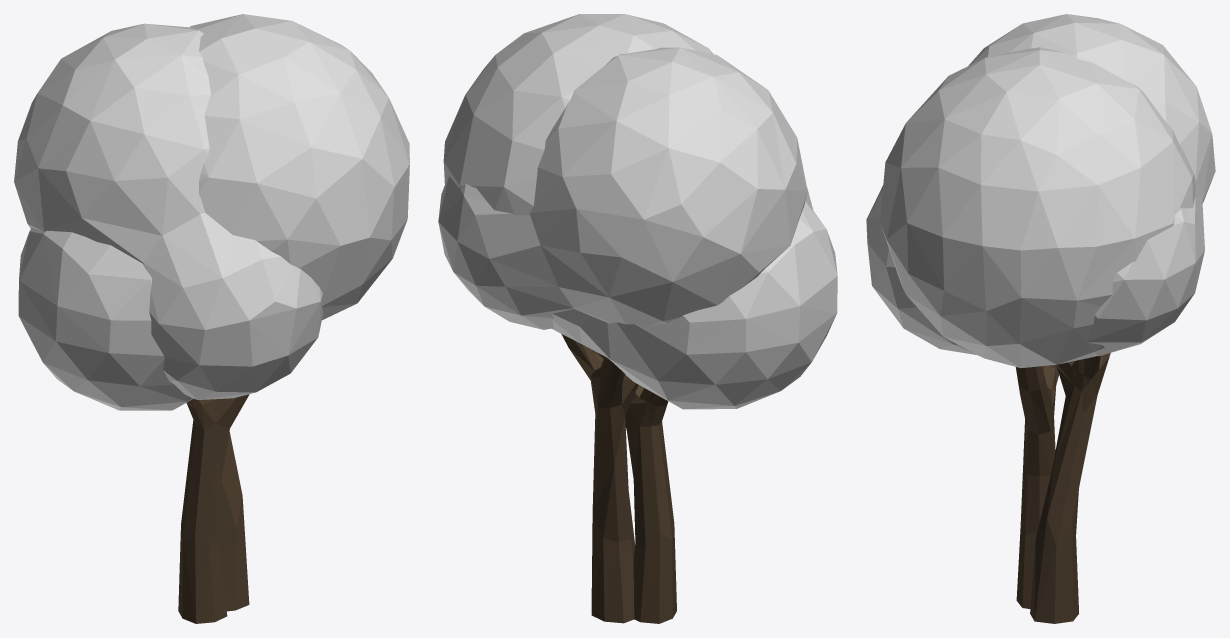
Rendered from trees.glb.
The picture shows the model from 3 angles, left to right: view 1: azimuth 30°, elevation 25°; view 2: azimuth 150°, elevation 25°; view 3: azimuth 270°, elevation 25°; orthographic projection. The views are drawn at different scales.
Visible parts, largest first — view 1: tree_oak__canopy, tree_round__canopy, tree_oak__trunk, tree_round__trunk; view 2: tree_round__canopy, tree_oak__canopy, tree_round__trunk, tree_oak__trunk; view 3: tree_oak__canopy, tree_round__canopy, tree_round__trunk, tree_oak__trunk.
Boxes of the visible parts, left/top/right/bottom form: tree_oak__canopy: left=18, top=14, right=409, bottom=410; tree_round__canopy: left=14, top=23, right=323, bottom=399; tree_oak__trunk: left=178, top=394, right=249, bottom=623; tree_round__trunk: left=219, top=432, right=249, bottom=611; tree_round__canopy: left=438, top=47, right=813, bottom=329; tree_oak__canopy: left=443, top=14, right=837, bottom=409; tree_round__trunk: left=561, top=334, right=638, bottom=623; tree_oak__trunk: left=598, top=353, right=676, bottom=623; tree_oak__canopy: left=880, top=47, right=1195, bottom=367; tree_round__canopy: left=866, top=14, right=1215, bottom=356; tree_round__trunk: left=1030, top=353, right=1110, bottom=623; tree_oak__trunk: left=1015, top=365, right=1058, bottom=608.
Size of the model in its own units: 3.86 by 6.02 by 3.4.
